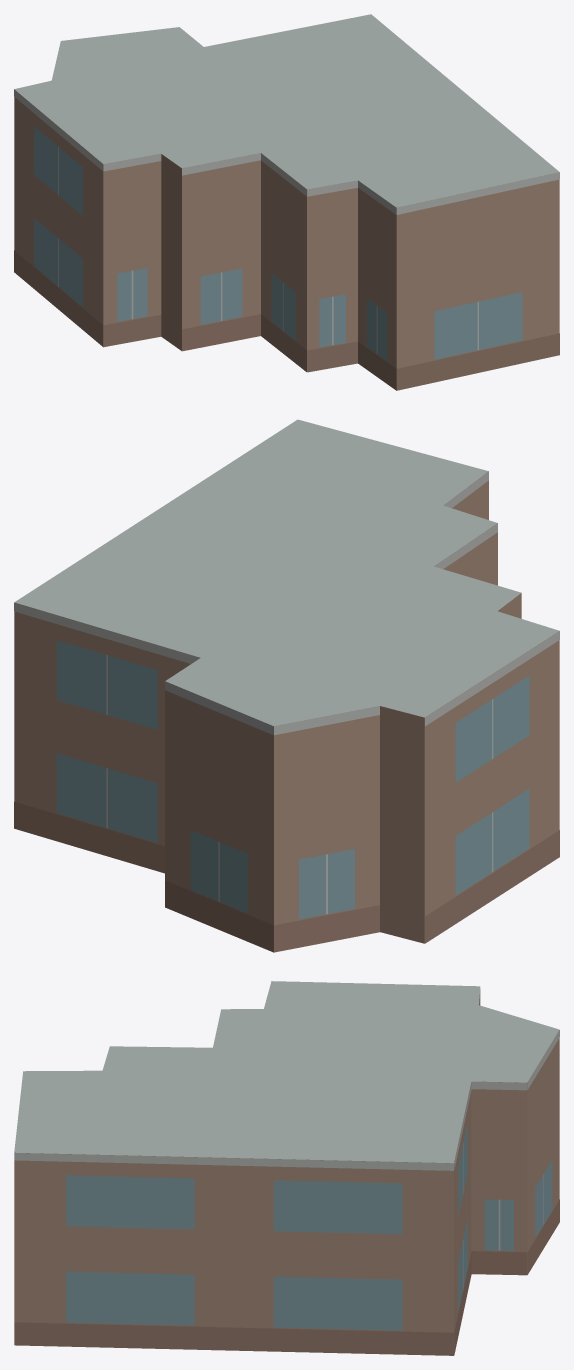
File: survey-upis-32674077.glb
3 renders of one model, top to bottom at view 1: azimuth 30°, elevation 25°; view 2: azimuth 150°, elevation 25°; view 3: azimuth 270°, elevation 25°, orthographic. The views are drawn at different scales.
Visible parts, largest first — view 1: survey-upis-32674077.tmp; view 2: survey-upis-32674077.tmp; view 3: survey-upis-32674077.tmp.
Part boxes in pixels (bbox=[...]): survey-upis-32674077.tmp: bbox=[14, 14, 559, 390]; survey-upis-32674077.tmp: bbox=[14, 419, 559, 952]; survey-upis-32674077.tmp: bbox=[14, 981, 559, 1355].
Bounding box in the file's own units: 12.38 × 6.1 × 15.67.
